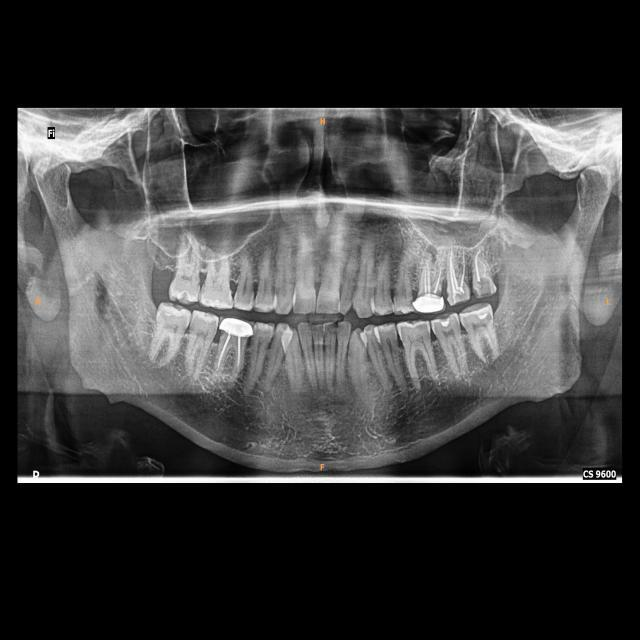dentin-curugu: (476, 277, 494, 298)
kanal-tedavisi: (220, 336, 247, 374), (416, 263, 444, 296), (446, 249, 466, 288), (475, 252, 487, 279)
kaplama: (220, 315, 252, 341), (412, 295, 446, 314)
